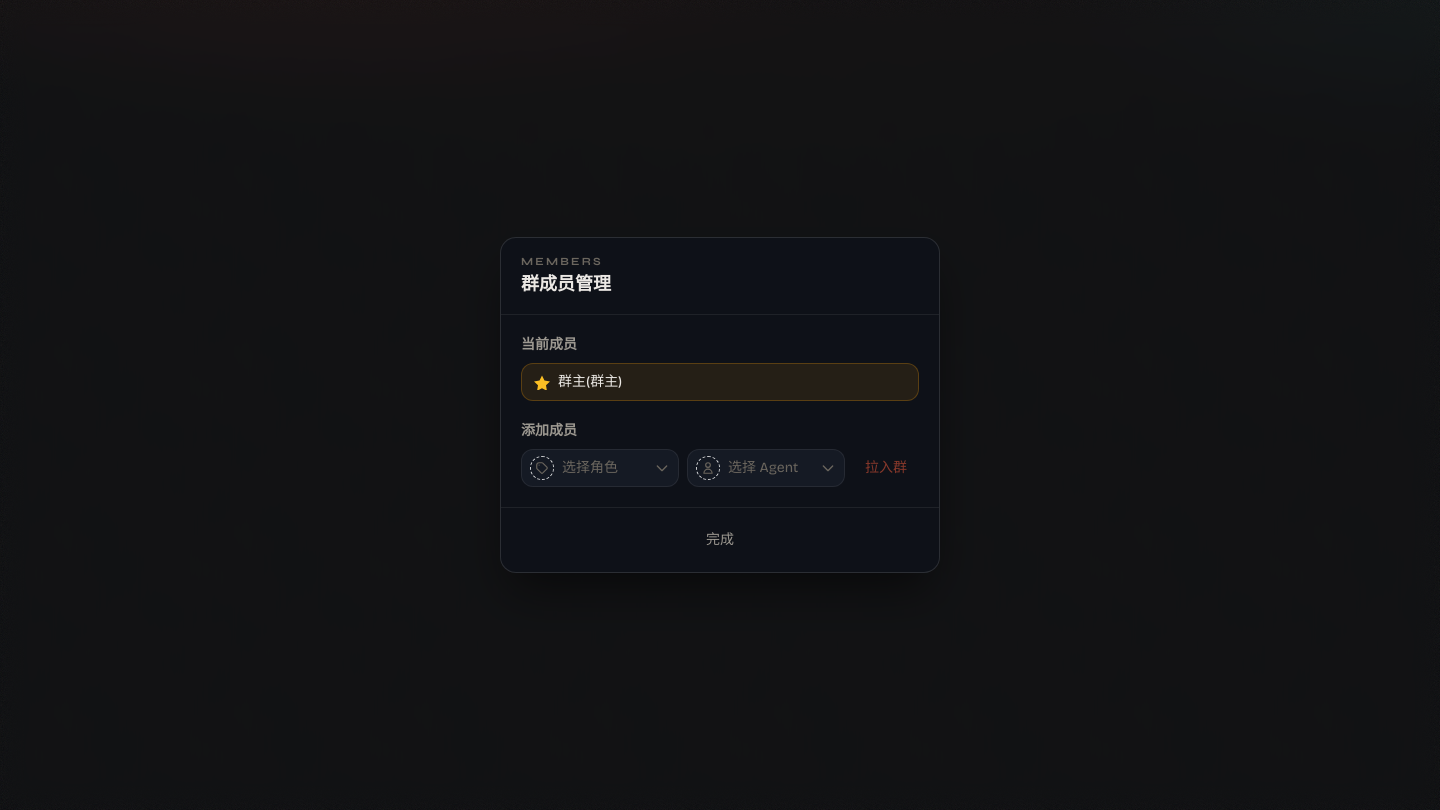
GroupMembersModal › shows loading state while adding a member
Click the dropdown labelled "选择角色".
click(600, 468)  # box [521,449,679,487]
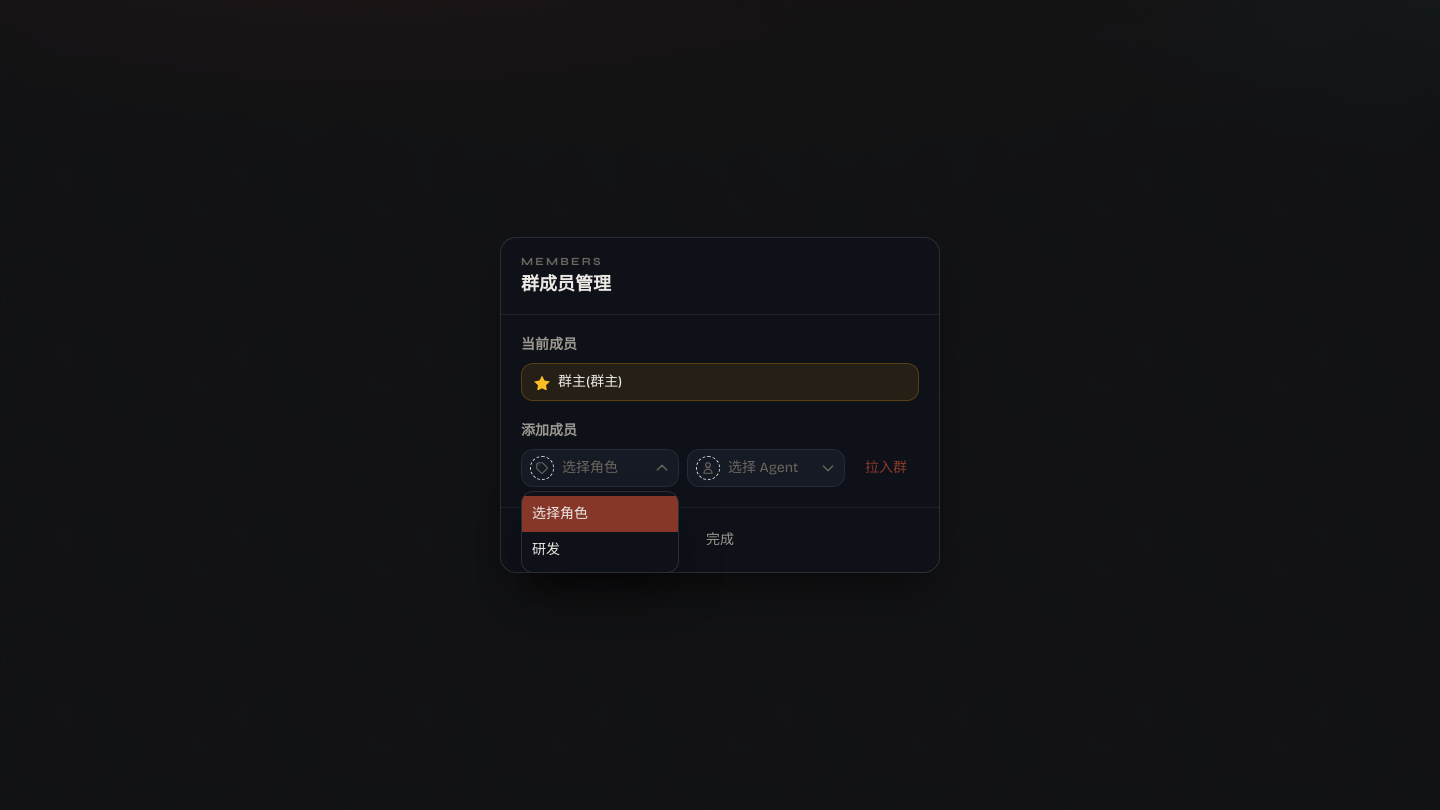
Click the option "研发".
click(600, 550)  # box [522,532,678,568]
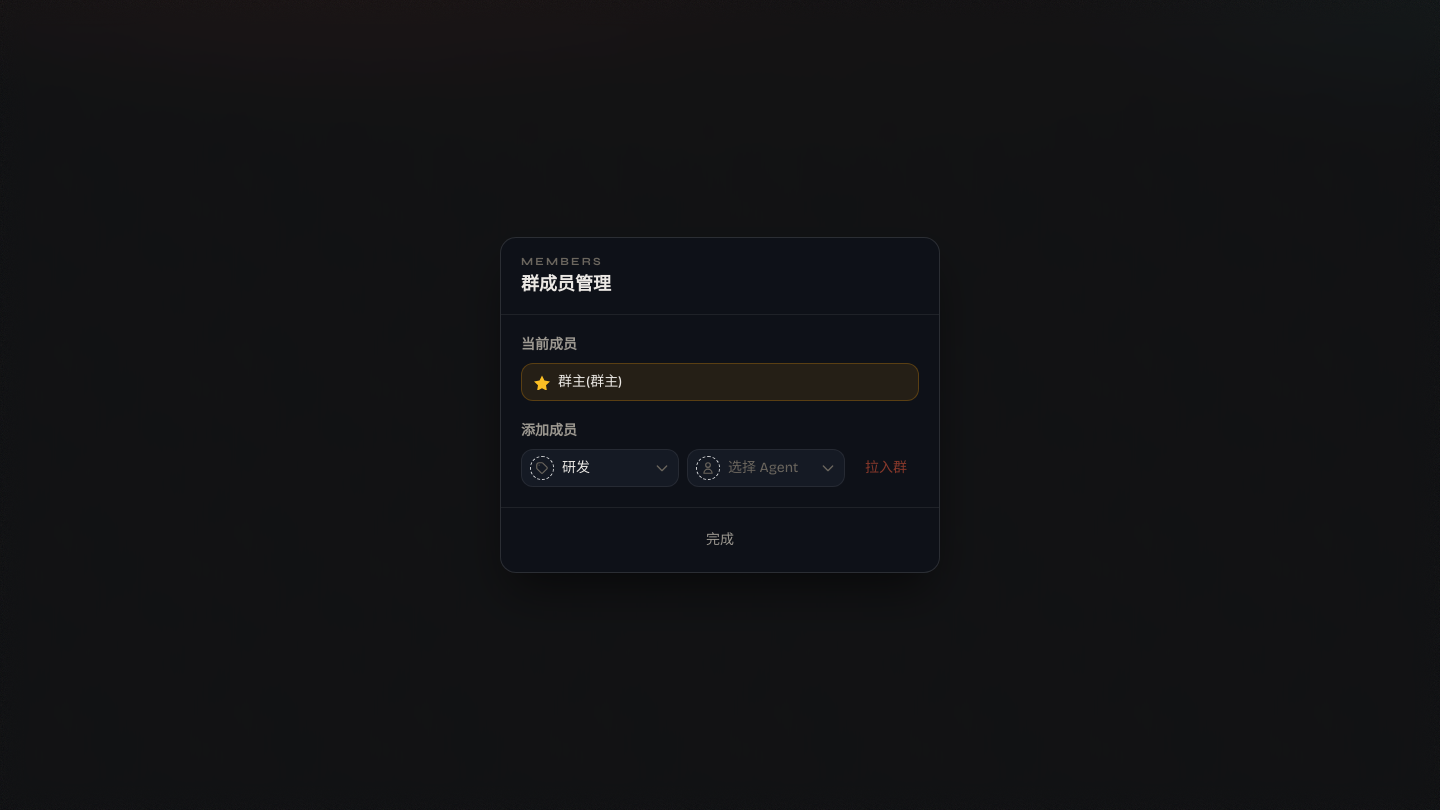
Click the dropdown labelled "选择 Agent".
click(766, 468)  # box [687,449,845,487]
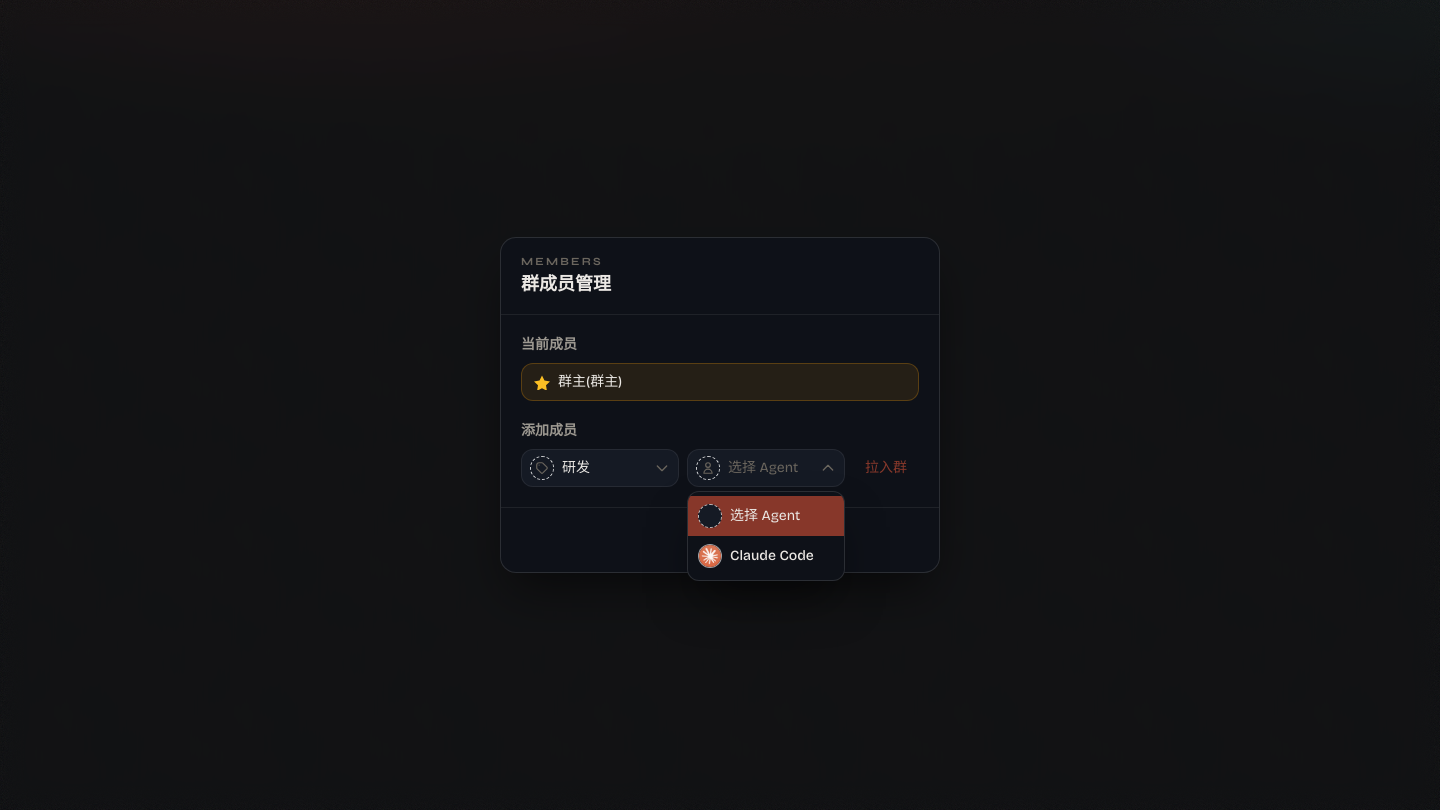
Click the option "Claude Code".
click(766, 556)  # box [688,536,844,576]
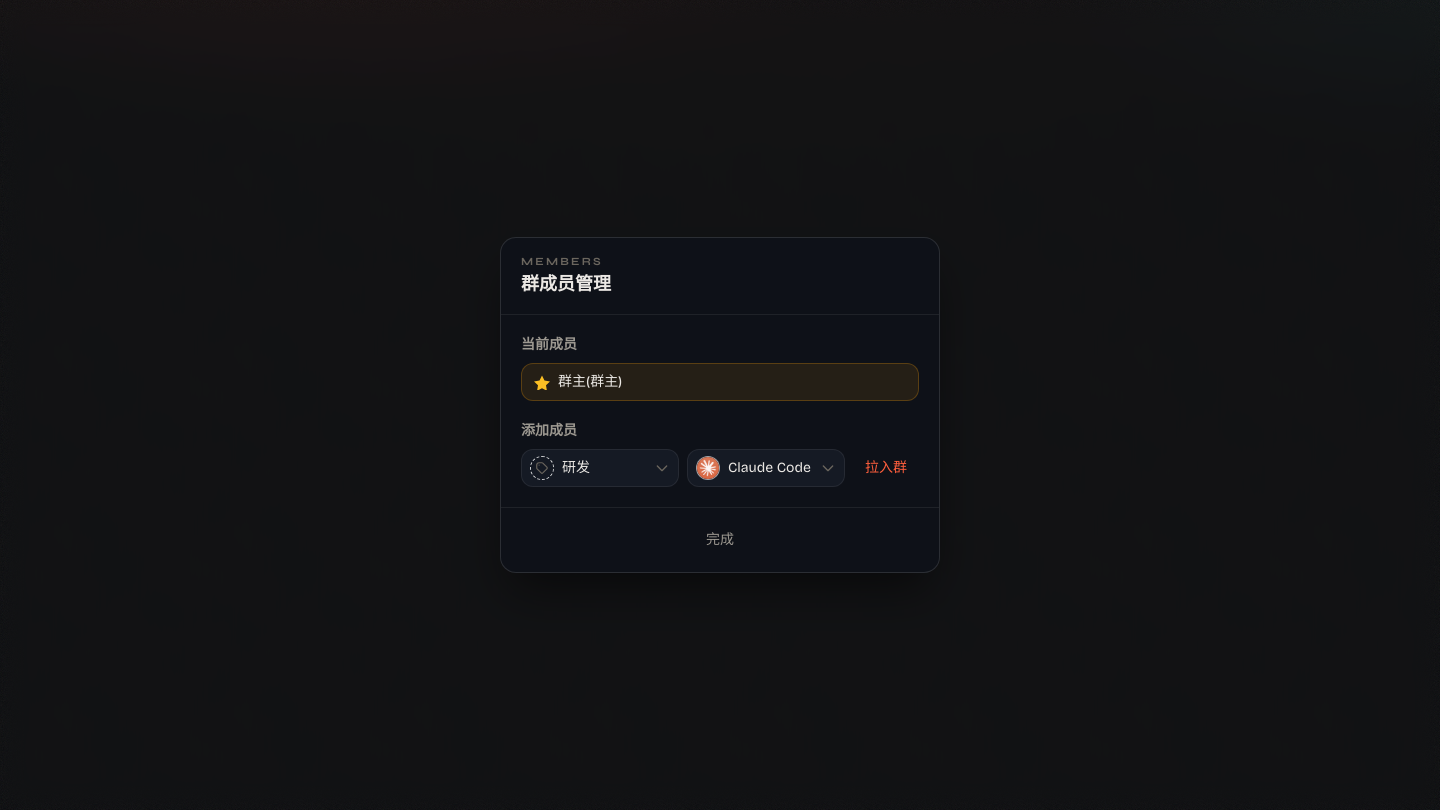
Click the button "拉入群".
click(886, 468)  # box [853,449,919,487]
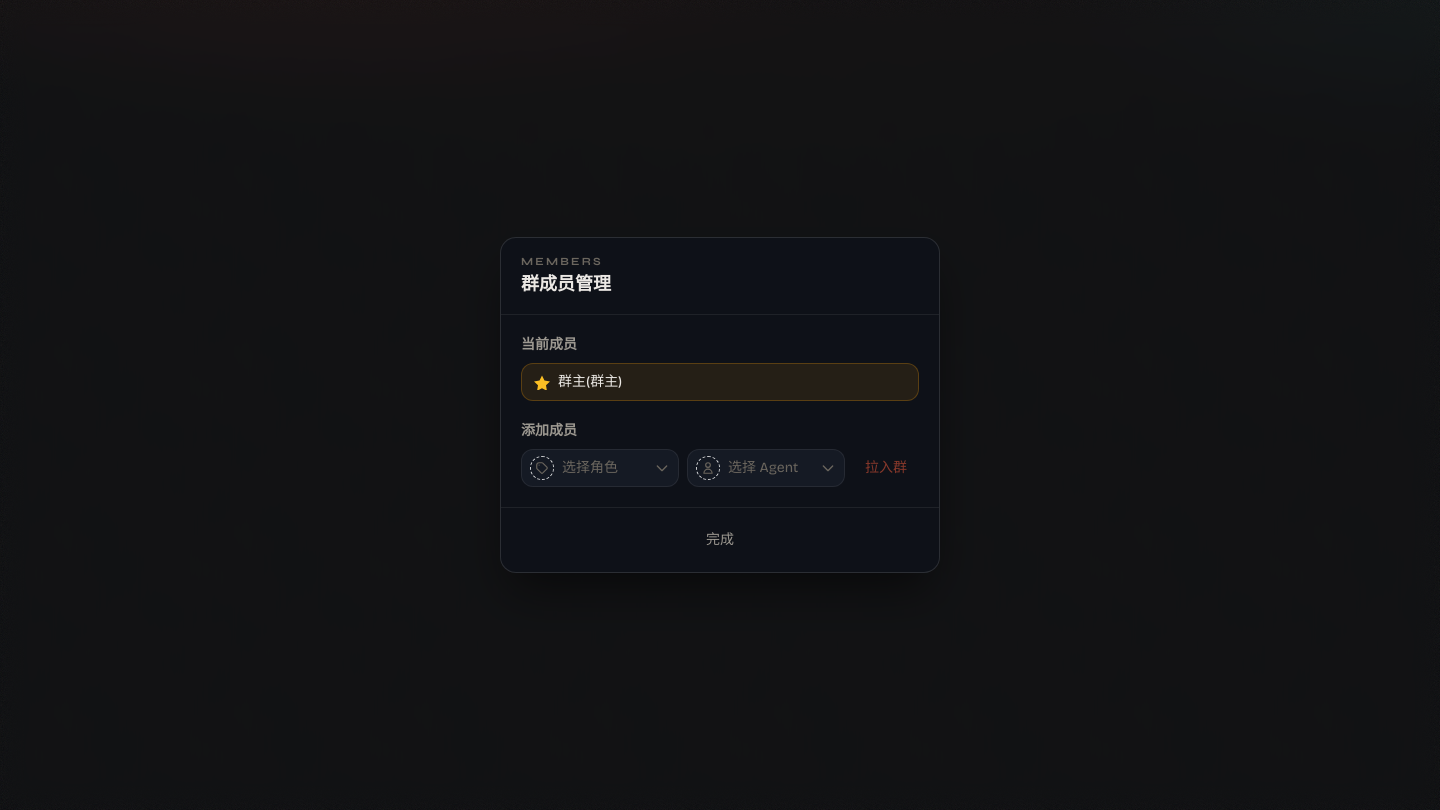
Check: the button named "拉入中..." is disabled, box [853,449,919,487]
Check: the button "拉入群" is disabled, box [853,449,919,487]
Check: the dropdown labelled "选择 Agent" is shown, box [687,449,845,487]
